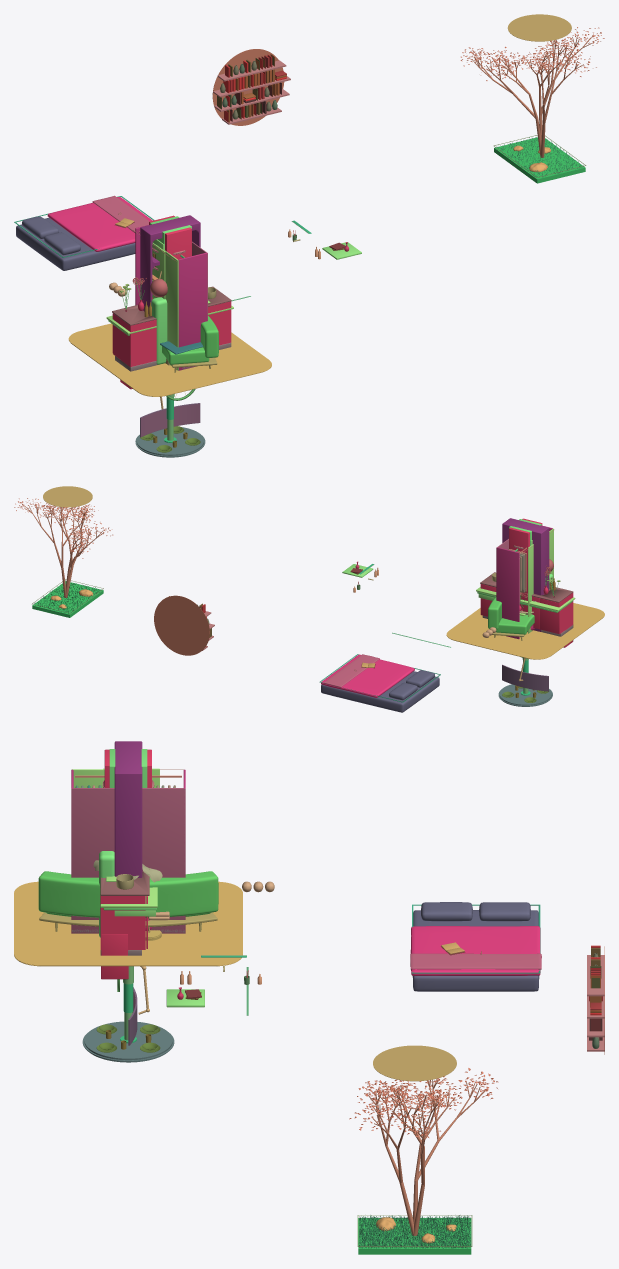
The model's file is items.glb.
3 views of the same model, one above another, from view 1: azimuth 30°, elevation 25°; view 2: azimuth 150°, elevation 25°; view 3: azimuth 270°, elevation 25° (orthographic). The views are drawn at different scales.
Parts seen in each view (by area): view 1: mesh_veg, mesh_bed, mesh_rug, mesh_wardrobe, mesh_round_shelf, mesh_kitchen, mesh_cubby, mesh_sofa, mesh_table_sky__top, mesh_monitor, mesh_wc, mesh_freezer; view 2: mesh_bed, mesh_veg, mesh_rug, mesh_round_shelf, mesh_wardrobe, mesh_kitchen, mesh_cubby, mesh_sofa, mesh_table_sky__top, mesh_monitor, mesh_freezer, mesh_desk; view 3: mesh_veg, mesh_bed, mesh_rug, mesh_wardrobe, mesh_sofa, mesh_cubby, mesh_kitchen, mesh_table_sky__top, mesh_round_shelf, mesh_kitchen_up, mesh_bath_kit, mesh_desk (+1 smaller).
Part boxes in pixels (x1,y1,x2,y2): mesh_veg: (460, 14, 604, 183); mesh_bed: (14, 195, 154, 270); mesh_rug: (68, 323, 271, 396); mesh_wardrobe: (133, 225, 207, 370); mesh_round_shelf: (212, 49, 290, 125); mesh_kitchen: (112, 277, 231, 371); mesh_cubby: (140, 215, 200, 313); mesh_sofa: (160, 316, 218, 372); mesh_table_sky__top: (135, 426, 205, 457); mesh_monitor: (140, 396, 200, 437); mesh_wc: (151, 297, 167, 364); mesh_freezer: (149, 215, 191, 259); mesh_bed: (319, 654, 440, 712); mesh_veg: (14, 486, 113, 617); mesh_rug: (446, 603, 604, 659); mesh_round_shelf: (154, 595, 214, 655); mesh_wardrobe: (496, 525, 554, 639); mesh_kitchen: (480, 565, 573, 636); mesh_cubby: (502, 518, 549, 631); mesh_sofa: (488, 596, 534, 640); mesh_table_sky__top: (498, 684, 552, 706); mesh_monitor: (502, 658, 548, 691); mesh_freezer: (509, 518, 542, 611); mesh_desk: (476, 577, 575, 612); mesh_veg: (349, 1045, 498, 1254); mesh_bed: (410, 902, 541, 991); mesh_rug: (14, 881, 242, 966); mesh_wardrobe: (71, 768, 185, 933); mesh_sofa: (38, 871, 218, 931); mesh_cubby: (114, 741, 142, 877); mesh_kitchen: (100, 872, 149, 955); mesh_table_sky__top: (82, 1021, 174, 1062); mesh_round_shelf: (587, 945, 604, 1054); mesh_kitchen_up: (101, 934, 128, 979); mesh_bath_kit: (148, 881, 274, 1015); mesh_desk: (100, 887, 157, 916).
Bounding box in the file's own units: 12.05 × 4.15 × 7.74.
